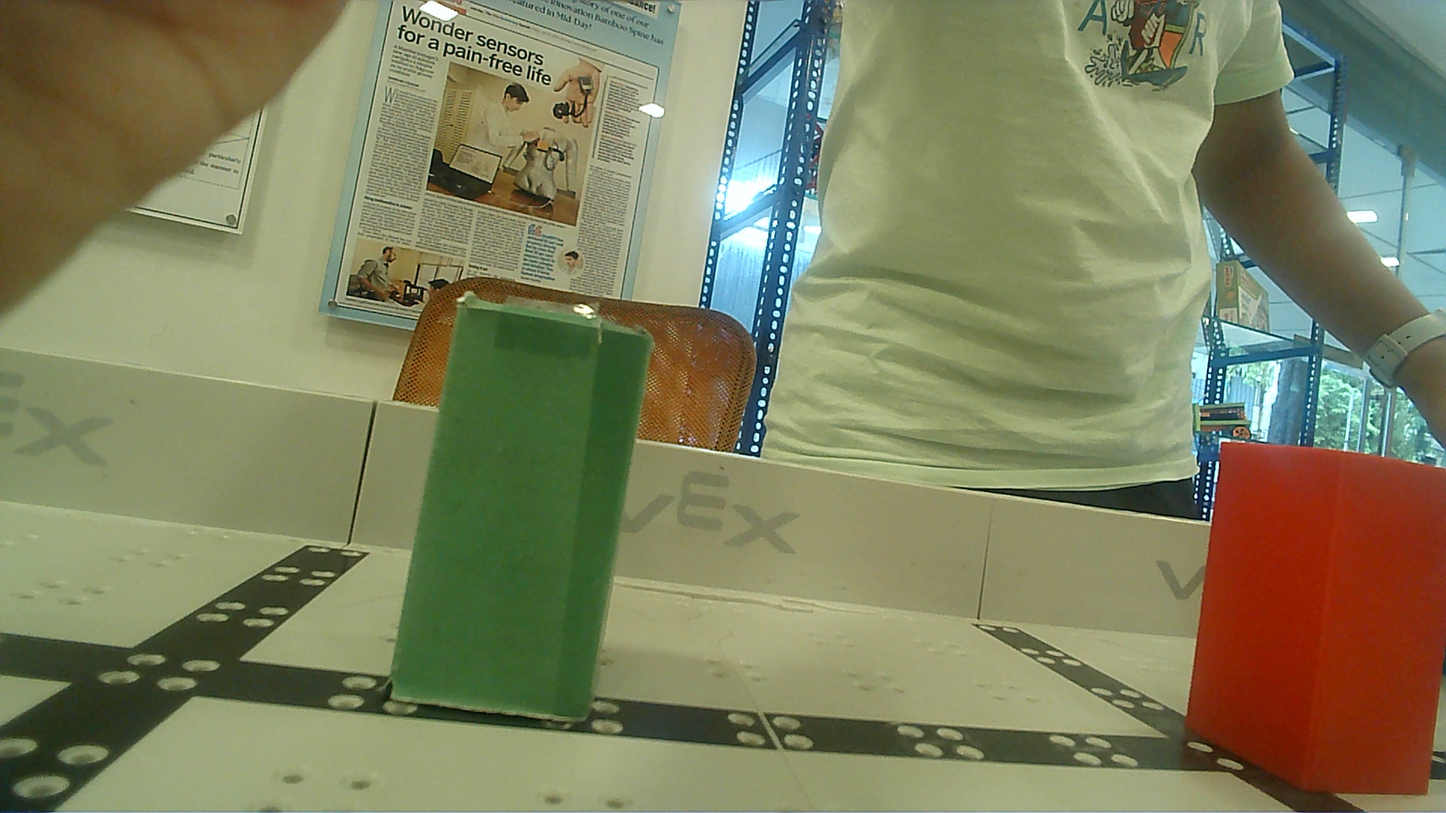green: (383, 297, 679, 723)
